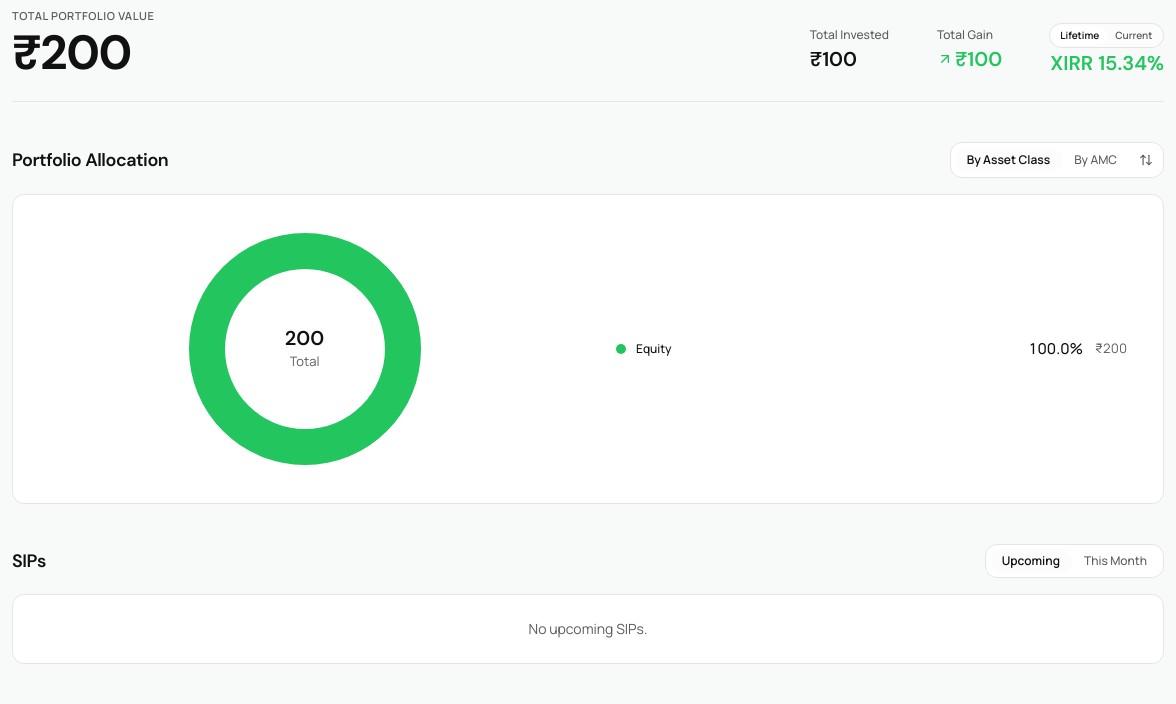
Test case: DashboardView › shows lifetime XIRR by default and switches to current-holdings XIRR via the toggle
Expected: the text "XIRR 15.34%" is shown, 1050,48 -> 1164,76
What coordinates should you click on to do the following:
click the tab "Current"
I would click on:
 (1134, 35)
Its box is 1107,26 -> 1160,44.
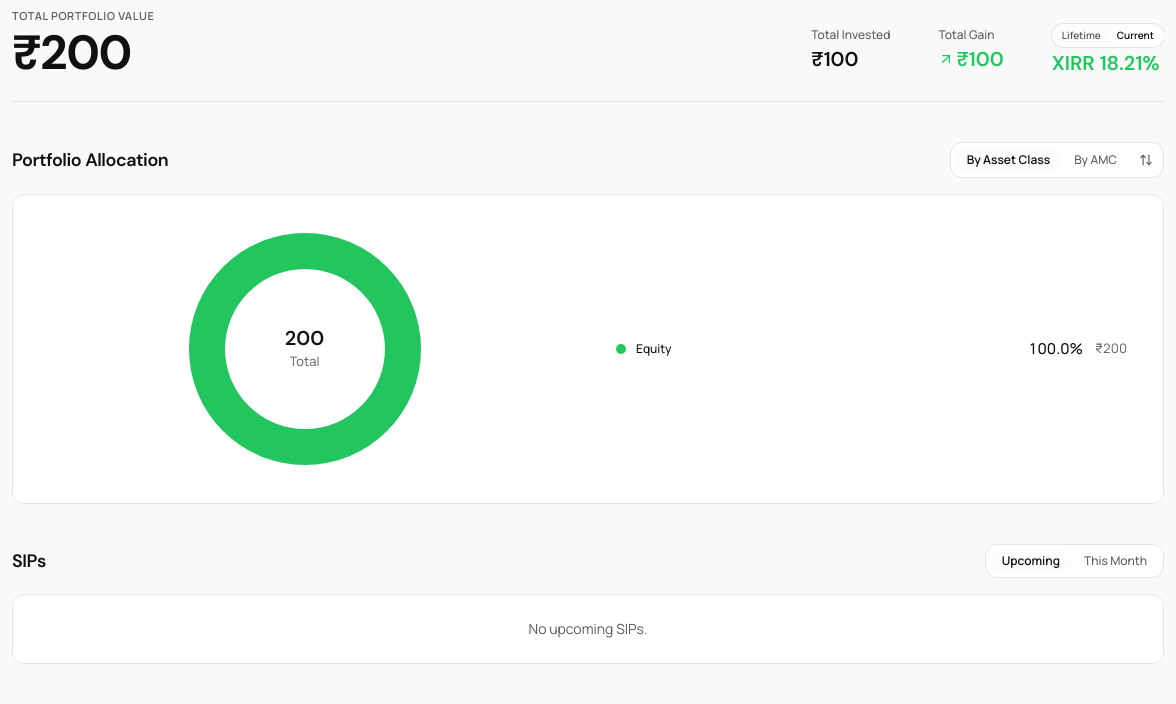
Expected: the text "XIRR 18.21%" is shown, 1052,48 -> 1164,76
Expected: the text "XIRR 15.34%" is gone
